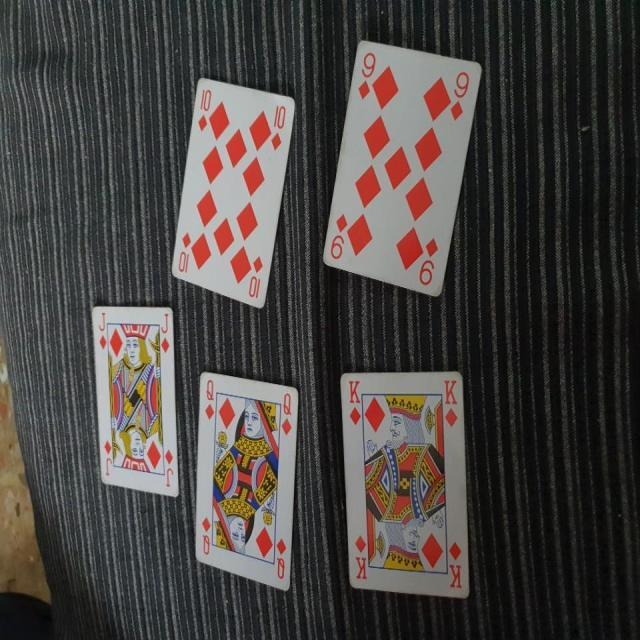10 of diamonds: (168, 73, 302, 311)
9 of diamonds: (320, 38, 484, 297)
jack of diamonds: (90, 304, 180, 498)
king of diamonds: (339, 369, 472, 600)
queen of diamonds: (192, 368, 299, 591)
